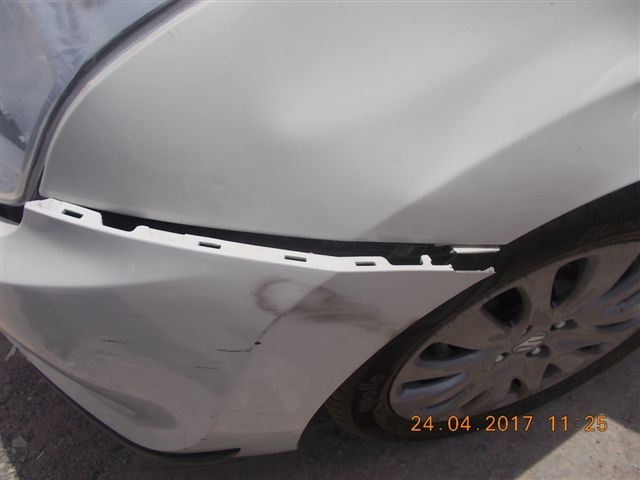Dislocation: (50, 167, 480, 312)
